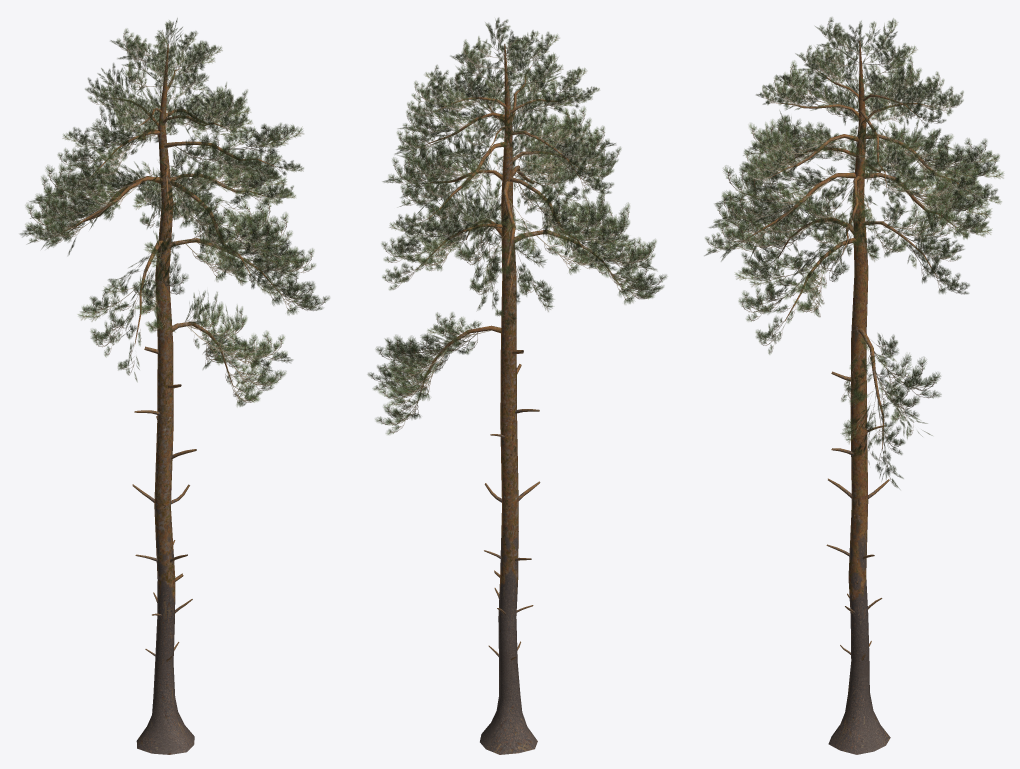
Rendered from tree01.glb.
3 views of the same model, side by side, from view 1: azimuth 30°, elevation 25°; view 2: azimuth 150°, elevation 25°; view 3: azimuth 270°, elevation 25° (orthographic).
Parts seen in each view (by area): view 1: Circle, Circle.012, Circle.002, Circle.001, Circle.003, Circle.005, Circle.015, Circle.007, Circle.011, Circle.014, Circle.006, Circle.016 (+9 smaller); view 2: Circle, Circle.001, Circle.003, Circle.011, Circle.005, Circle.013, Circle.007, Circle.004, Circle.008, Circle.014, Circle.006, Circle.009 (+8 smaller); view 3: Circle, Circle.001, Circle.002, Circle.012, Circle.013, Circle.004, Circle.015, Circle.011, Circle.003, Circle.006, Circle.009, Circle.008 (+8 smaller).
Part boxes in pixels (left/top/right/bottom): Circle: left=136, top=44, right=194, bottom=754; Circle.012: left=169, top=197, right=329, bottom=315; Circle.002: left=168, top=179, right=303, bottom=295; Circle.001: left=172, top=291, right=292, bottom=406; Circle.003: left=77, top=232, right=188, bottom=381; Circle.005: left=27, top=163, right=162, bottom=255; Circle.015: left=164, top=121, right=303, bottom=182; Circle.007: left=57, top=118, right=160, bottom=198; Circle.011: left=20, top=154, right=160, bottom=248; Circle.014: left=133, top=148, right=216, bottom=257; Circle.006: left=170, top=146, right=295, bottom=207; Circle.016: left=158, top=87, right=247, bottom=138; Circle: left=480, top=44, right=537, bottom=754; Circle.001: left=367, top=312, right=501, bottom=434; Circle.003: left=514, top=186, right=667, bottom=304; Circle.011: left=454, top=181, right=554, bottom=330; Circle.005: left=509, top=177, right=634, bottom=272; Circle.013: left=399, top=138, right=507, bottom=237; Circle.007: left=511, top=106, right=613, bottom=193; Circle.004: left=381, top=206, right=502, bottom=290; Circle.008: left=407, top=65, right=506, bottom=119; Circle.014: left=512, top=106, right=621, bottom=183; Circle.006: left=382, top=126, right=502, bottom=198; Circle.009: left=395, top=93, right=504, bottom=158; Circle: left=828, top=40, right=890, bottom=754; Circle.001: left=841, top=328, right=941, bottom=488; Circle.002: left=704, top=162, right=855, bottom=261; Circle.012: left=735, top=224, right=856, bottom=354; Circle.013: left=864, top=128, right=1003, bottom=206; Circle.004: left=863, top=197, right=969, bottom=294; Circle.015: left=739, top=116, right=858, bottom=187; Circle.011: left=864, top=162, right=992, bottom=239; Circle.003: left=738, top=188, right=853, bottom=274; Circle.006: left=804, top=176, right=879, bottom=271; Circle.009: left=847, top=110, right=924, bottom=203; Circle.008: left=861, top=55, right=946, bottom=129.
Bounding box in the file's own units: 34.65 × 93.99 × 35.99.
Materials: 6 (6 with a texture image).
